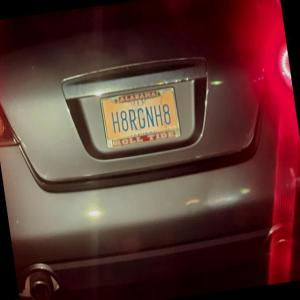Plate: (99, 87, 181, 149)
